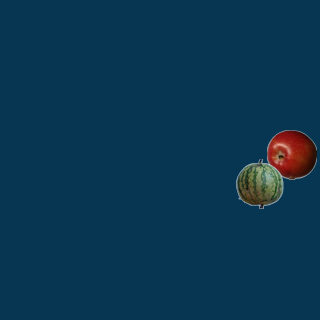Apple Braeburn: (266, 129, 316, 179)
Watermelon: (234, 158, 284, 208)
